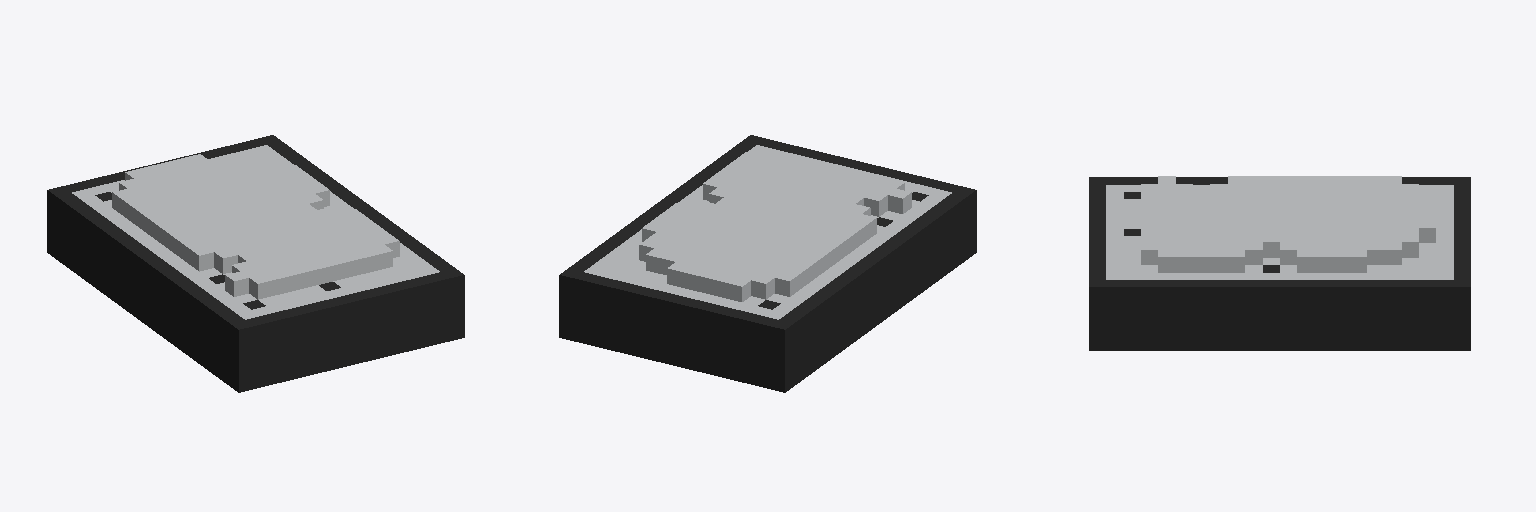
3 renders of one model, left to right at view 1: azimuth 30°, elevation 25°; view 2: azimuth 150°, elevation 25°; view 3: azimuth 270°, elevation 25°, orthographic.
Visible parts, largest first — view 1: harddrive; view 2: harddrive; view 3: harddrive.
Boxes of the visible parts, x1,y1,x2,y2 form: harddrive: [47, 135, 464, 392]; harddrive: [559, 135, 976, 392]; harddrive: [1089, 176, 1470, 350].
Size of the model in its own units: 15 by 5 by 22.
Materials: 1 (1 with a texture image).